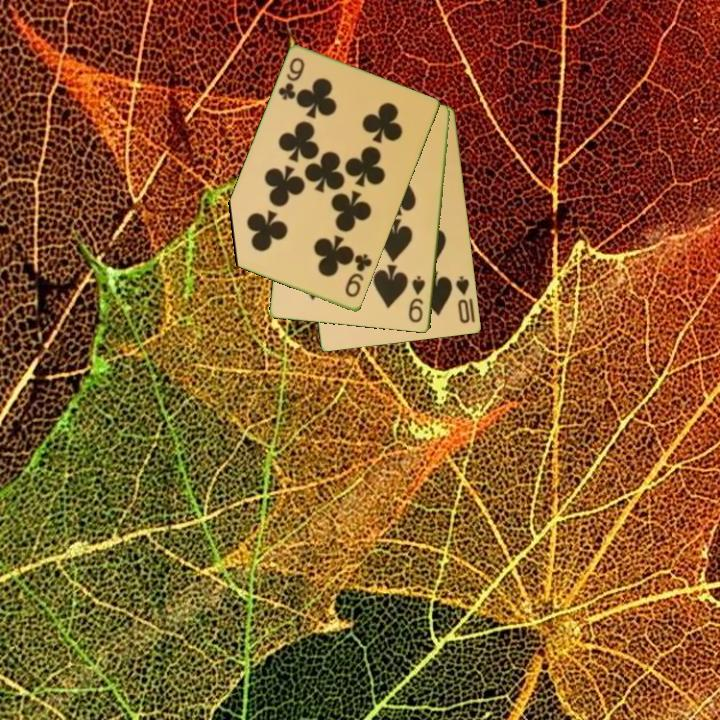10s: (453, 273, 473, 326)
9c: (341, 250, 375, 301), (275, 54, 308, 103)
9s: (405, 272, 428, 326)
